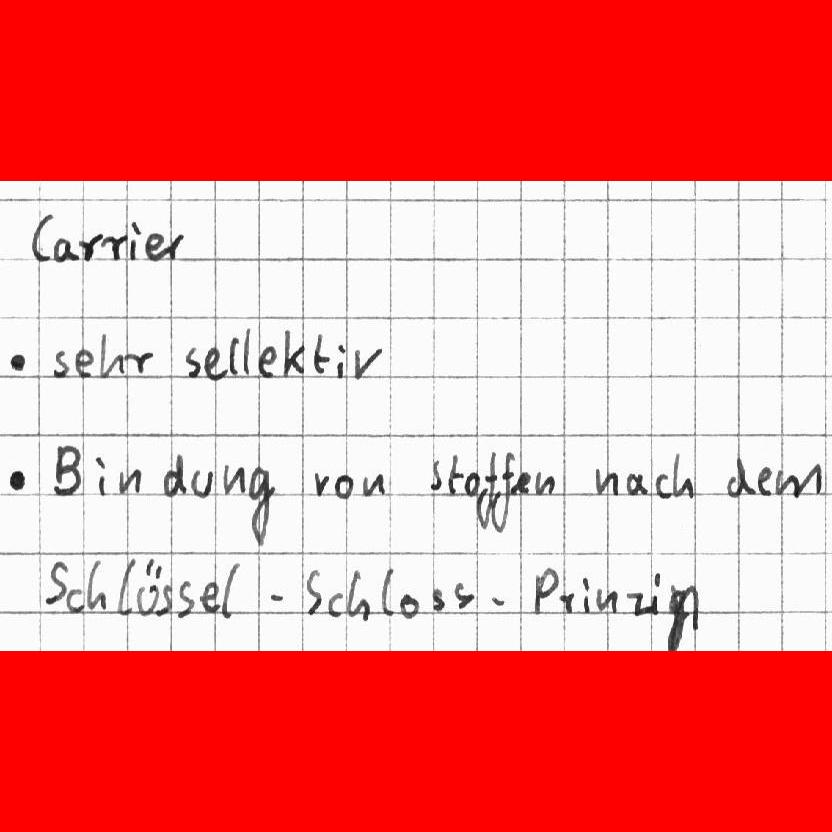Char: (666, 583, 697, 653), (491, 449, 515, 533), (247, 470, 275, 541), (476, 449, 498, 534), (775, 462, 822, 500), (49, 443, 82, 496), (135, 558, 163, 616), (531, 563, 559, 614), (28, 210, 53, 263), (43, 558, 70, 606), (725, 456, 755, 499), (97, 330, 123, 379), (352, 344, 385, 382), (281, 327, 305, 379), (346, 568, 369, 622), (220, 560, 241, 619), (162, 452, 186, 498), (86, 560, 107, 612), (672, 450, 694, 499), (117, 559, 135, 613), (304, 568, 323, 617), (124, 348, 155, 377), (174, 578, 195, 619), (380, 567, 396, 619), (202, 344, 224, 381), (221, 463, 244, 498), (117, 467, 143, 497), (594, 466, 618, 498), (312, 332, 329, 376), (200, 580, 220, 616), (78, 233, 102, 263), (228, 331, 243, 379), (257, 344, 278, 378), (594, 583, 617, 614), (192, 468, 216, 497), (53, 235, 77, 264), (165, 229, 186, 262), (361, 472, 387, 498), (398, 591, 422, 619), (50, 346, 71, 378), (624, 590, 648, 618), (74, 347, 95, 378), (240, 324, 252, 378), (93, 455, 108, 497), (184, 344, 202, 379), (105, 232, 126, 262), (145, 230, 165, 261), (446, 453, 461, 494), (452, 581, 472, 611), (127, 218, 140, 263), (66, 585, 86, 614), (653, 471, 672, 501), (157, 581, 173, 616), (624, 472, 647, 496), (6, 466, 28, 491), (326, 590, 346, 617), (333, 473, 354, 498), (6, 348, 27, 373), (428, 458, 443, 492), (430, 585, 448, 613), (334, 341, 347, 379), (536, 472, 556, 496), (463, 470, 480, 498), (557, 591, 577, 614), (312, 472, 330, 497), (650, 570, 660, 615), (758, 468, 774, 496), (580, 576, 592, 613), (516, 471, 533, 495), (488, 591, 508, 610), (265, 588, 284, 606)
